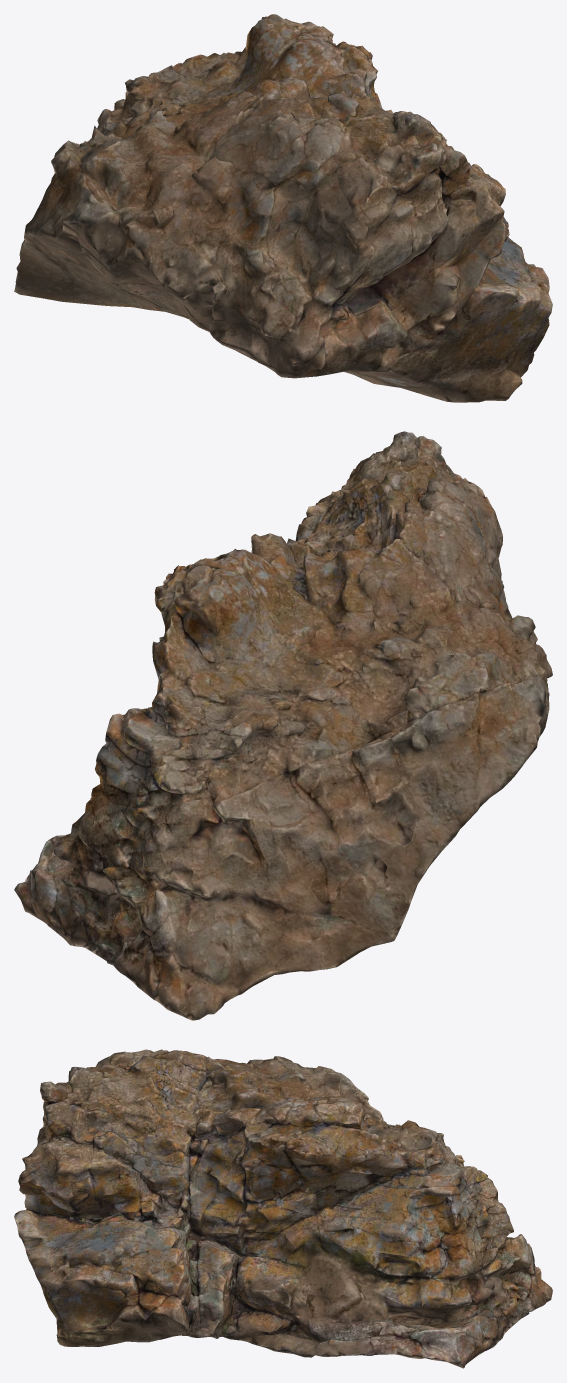
Rendered from boulder_01.glb.
3 renders of one model, top to bottom at view 1: azimuth 30°, elevation 25°; view 2: azimuth 150°, elevation 25°; view 3: azimuth 270°, elevation 25°, orthographic. The views are drawn at different scales.
Parts seen in each view (by area): view 1: boulder_01; view 2: boulder_01; view 3: boulder_01.
Part boxes in pixels (x1=…): boulder_01: x1=14, y1=14, x2=552, y2=402; boulder_01: x1=14, y1=431, x2=552, y2=1020; boulder_01: x1=14, y1=1049, x2=552, y2=1368.
Bounding box in the file's own units: 1.27 × 1 × 1.83.
Materials: 1 (1 with a texture image).
